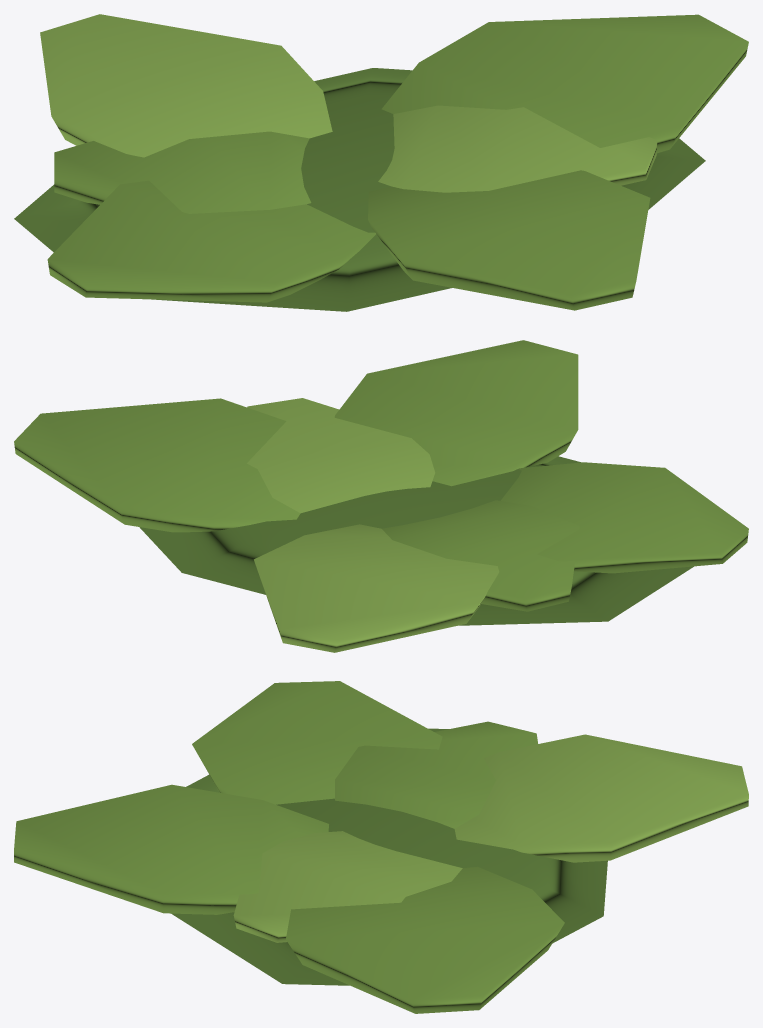
The model's file is ground_carpet_c.glb.
3 views of the same model, one above another, from view 1: azimuth 30°, elevation 25°; view 2: azimuth 150°, elevation 25°; view 3: azimuth 270°, elevation 25° (orthographic). The views are drawn at different scales.
Parts seen in each view (by area): view 1: ground_carpet_c; view 2: ground_carpet_c; view 3: ground_carpet_c.
Part boxes in pixels (bbox=[...]): ground_carpet_c: bbox=[14, 14, 748, 311]; ground_carpet_c: bbox=[14, 340, 748, 652]; ground_carpet_c: bbox=[14, 681, 748, 1013].
Bounding box in the file's own units: 0.4458 × 0.0259 × 0.4255.
